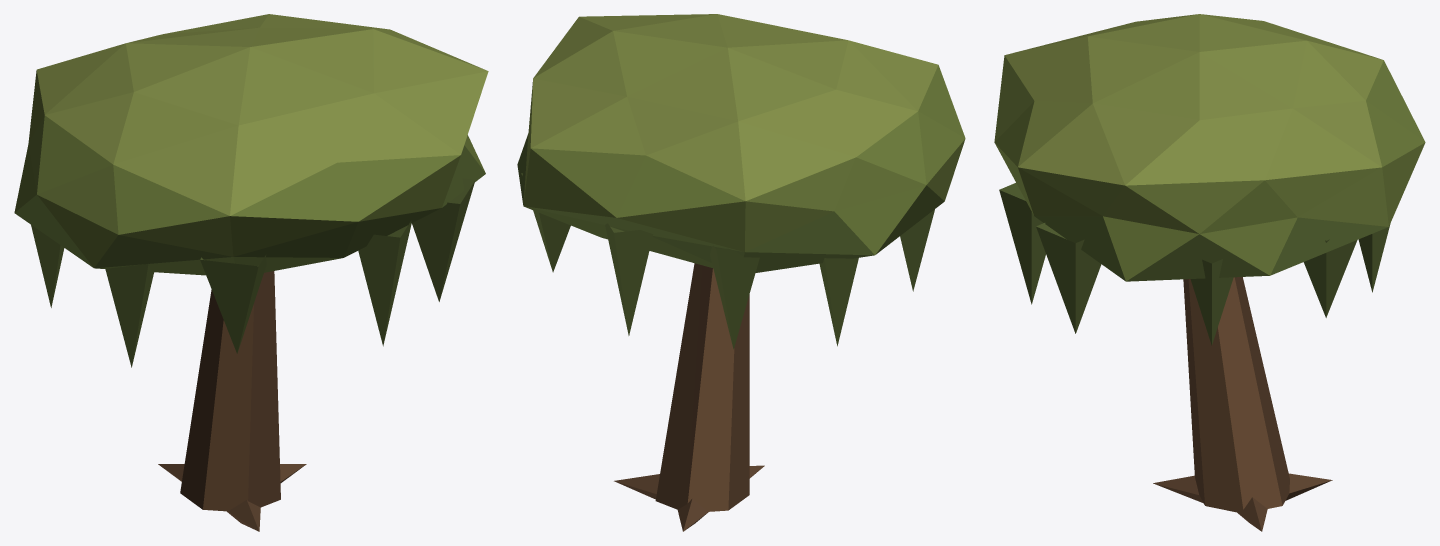
File: tree_swamp_a.glb
The picture shows the model from 3 angles, left to right: view 1: azimuth 30°, elevation 25°; view 2: azimuth 150°, elevation 25°; view 3: azimuth 270°, elevation 25°; orthographic projection. The views are drawn at different scales.
Visible parts, largest first — view 1: tree_swamp_a; view 2: tree_swamp_a; view 3: tree_swamp_a.
Boxes of the visible parts, bbox=[...] form: tree_swamp_a: bbox=[14, 14, 488, 531]; tree_swamp_a: bbox=[517, 14, 965, 531]; tree_swamp_a: bbox=[994, 14, 1425, 531].
Bounding box in the file's own units: 1.84 × 2.03 × 1.74.
